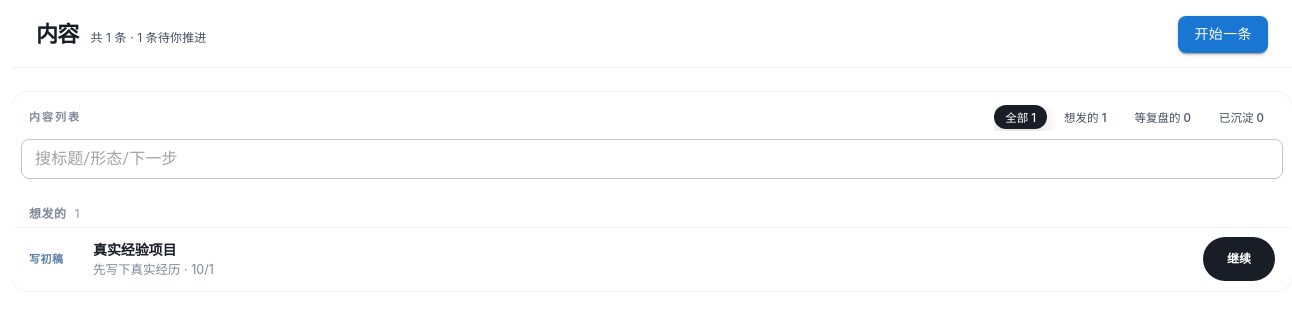
Test: ContentPage › filter empty state offers going to wanted
expect the text "真实经验项目" is shown: met, box [93,240,176,258]
Click the button with test id "view-done": x=1242, y=116 [1208,104,1275,128]
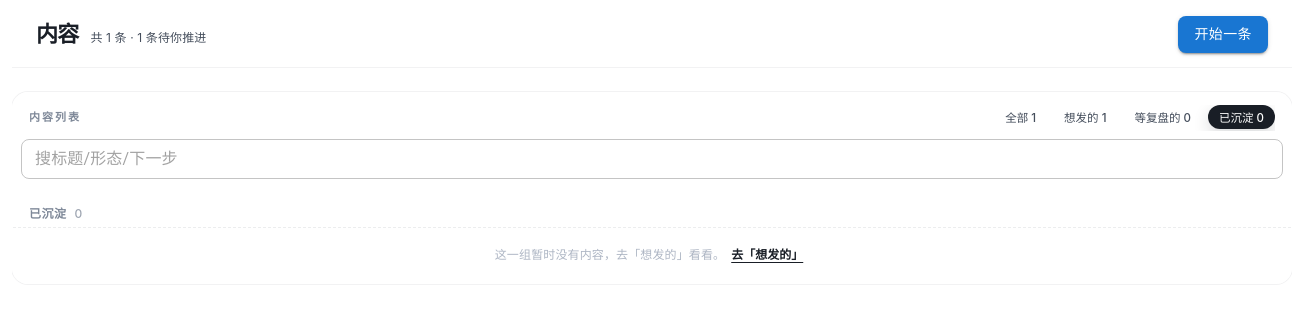
expect the text "这一组暂时没有内容，去「想发的」看看。 去「想发的」" is shown: met, box [13,226,1291,282]
Click the button "去「想发的」": x=767, y=255 [725,242,809,268]
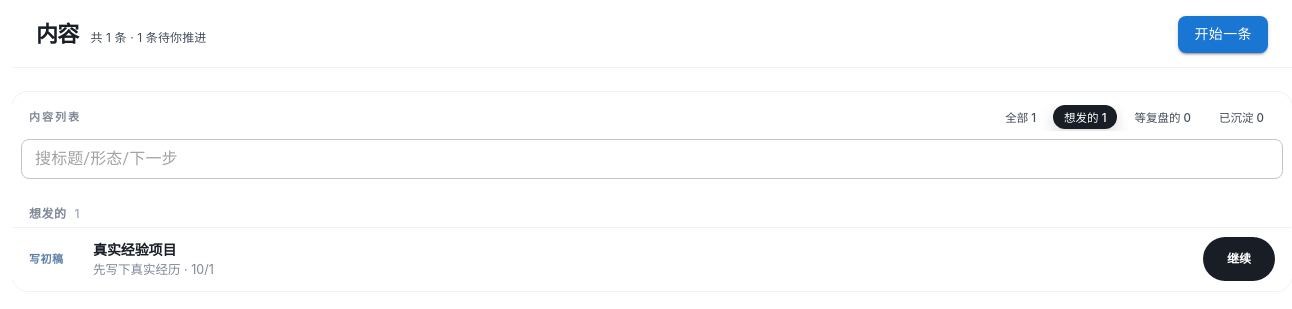
expect the text "真实经验项目" is shown: met, box [93,240,176,258]
